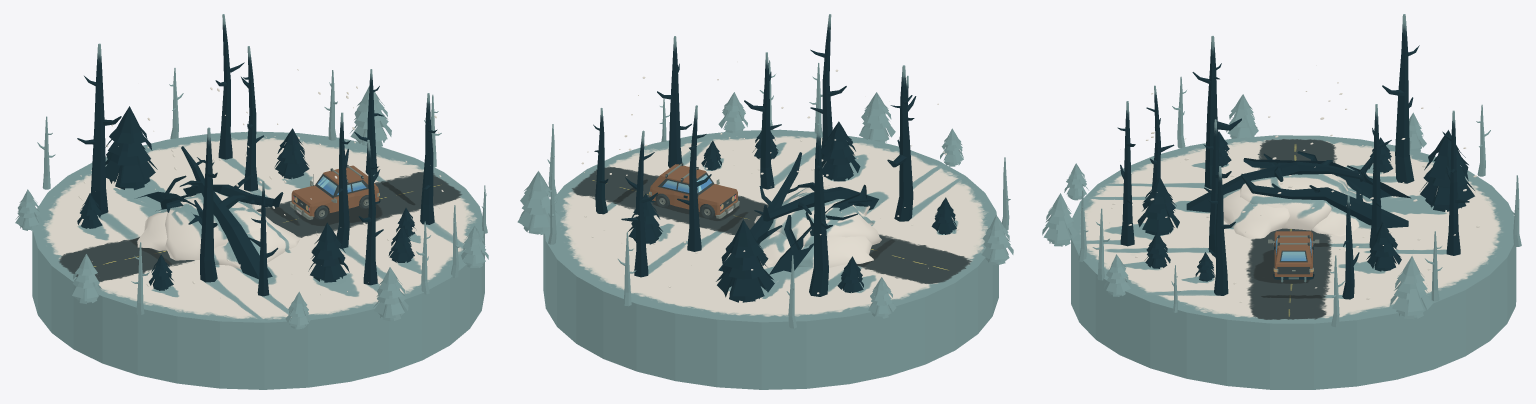
Rendered from snowy_road_diorama.glb.
The picture shows the model from 3 angles, left to right: view 1: azimuth 30°, elevation 25°; view 2: azimuth 150°, elevation 25°; view 3: azimuth 270°, elevation 25°; orthographic projection.
Parts seen in each view (by area): view 1: snowyroad_mesh; view 2: snowyroad_mesh; view 3: snowyroad_mesh.
Part boxes in pixels (box(x1,y1,x2,y2)): snowyroad_mesh: box(15, 14, 488, 389); snowyroad_mesh: box(517, 14, 1013, 389); snowyroad_mesh: box(1042, 14, 1521, 389).
Size of the model in its own units: 22.48 by 12.09 by 22.71.
4 materials, 4 textured.
